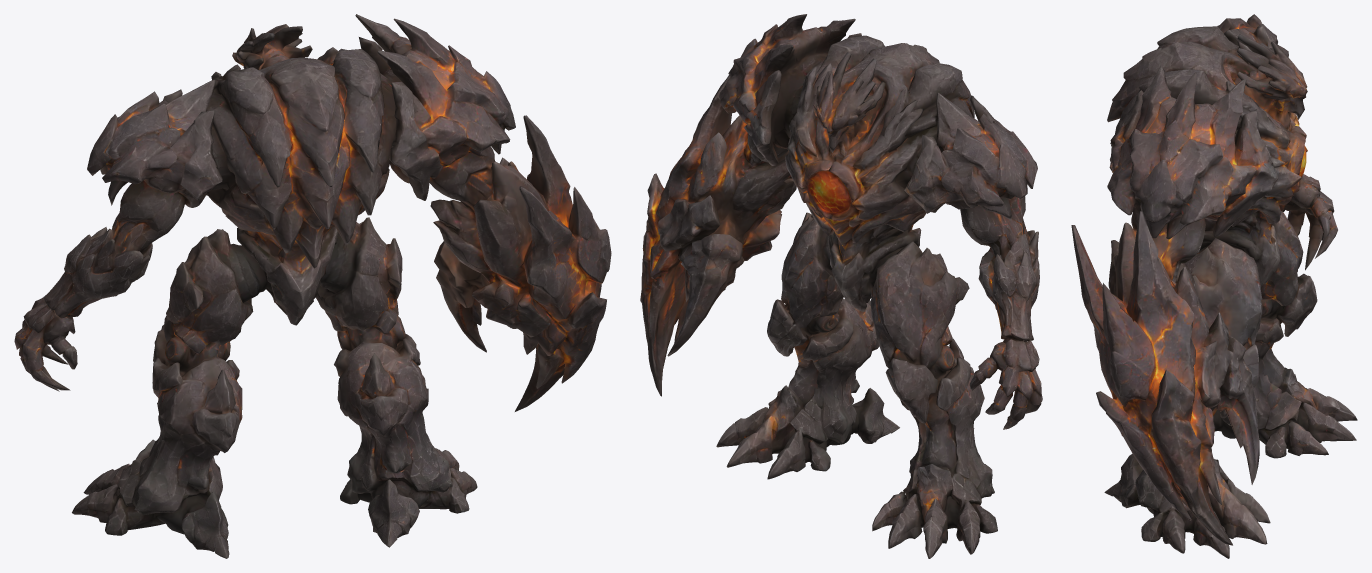
The model's file is alien-boss-v1.glb.
3 views of the same model, side by side, from view 1: azimuth 30°, elevation 25°; view 2: azimuth 150°, elevation 25°; view 3: azimuth 270°, elevation 25° (orthographic). The views are drawn at different scales.
Parts seen in each view (by area): view 1: tripo_node_be032da3-6cf0-4dbf-a79e-9ca73374b53e; view 2: tripo_node_be032da3-6cf0-4dbf-a79e-9ca73374b53e; view 3: tripo_node_be032da3-6cf0-4dbf-a79e-9ca73374b53e.
Boxes of the visible parts, <box> form: tripo_node_be032da3-6cf0-4dbf-a79e-9ca73374b53e: <box>14,14,611,558</box>; tripo_node_be032da3-6cf0-4dbf-a79e-9ca73374b53e: <box>640,14,1042,558</box>; tripo_node_be032da3-6cf0-4dbf-a79e-9ca73374b53e: <box>1071,14,1357,558</box>.
Bounding box in the file's own units: 0.98 × 0.8975 × 0.5172.
Materials: 1 (1 with a texture image).
